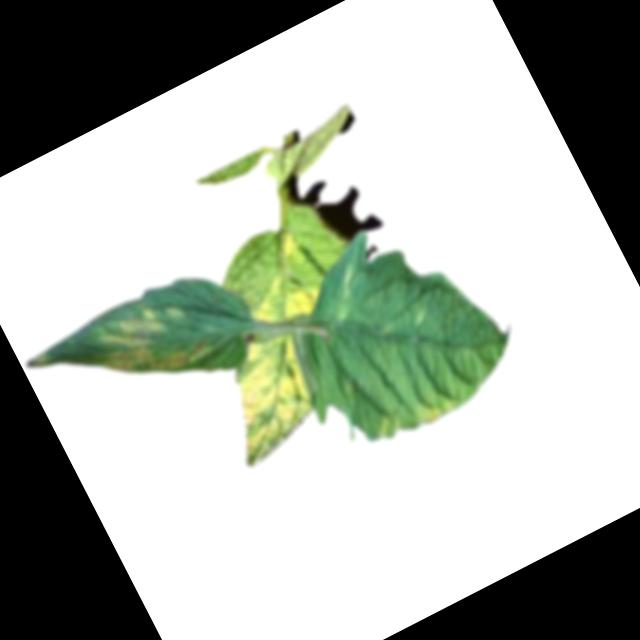Leaf_Mold: (194, 322, 335, 470), (83, 285, 220, 406), (236, 259, 331, 343), (411, 392, 460, 431), (269, 224, 305, 263)
